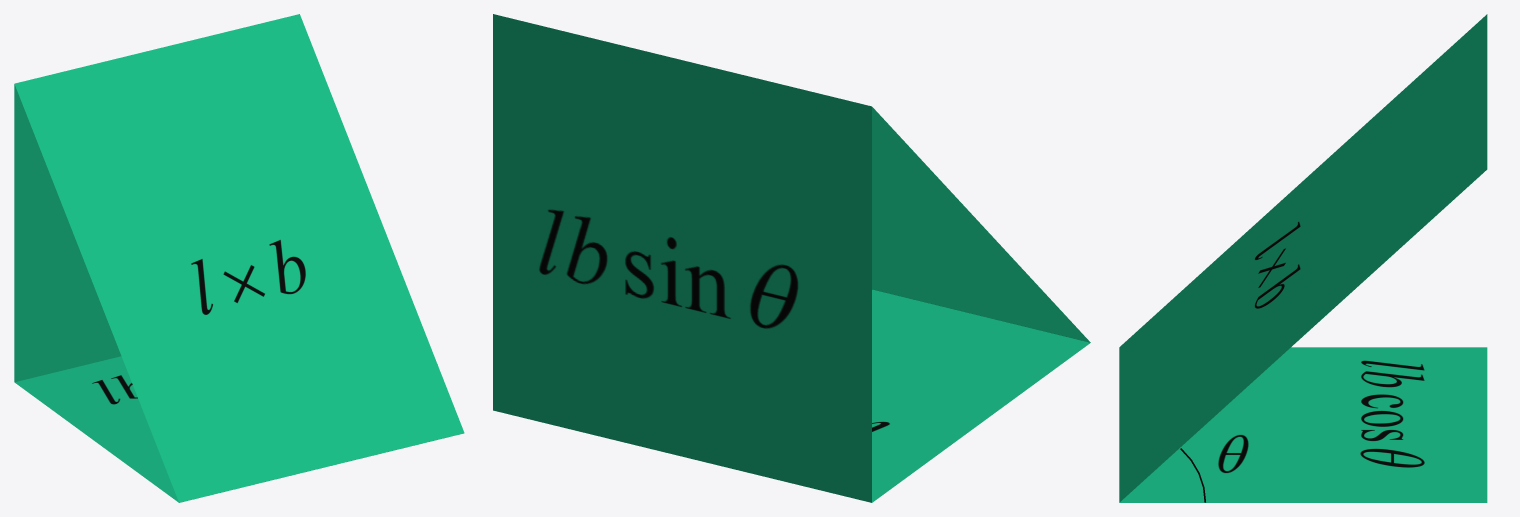
Rendered from 07_Components of inclined surface area.glb.
The picture shows the model from 3 angles, left to right: view 1: azimuth 30°, elevation 25°; view 2: azimuth 150°, elevation 25°; view 3: azimuth 270°, elevation 25°; orthographic projection. The views are drawn at different scales.
Visible parts, largest first — view 1: Cube, Shape_3_Object 5.001; view 2: Cube, Shape_1_Object 3.001; view 3: Cube, Shape_4_Object 6.001, Shape_3_Object 5.001, Shape_2_Object 4.001.
Boxes of the visible parts, x1=… form: Cube: x1=14, y1=14, x2=464, y2=502; Shape_3_Object 5.001: x1=191, y1=240, x2=305, y2=314; Cube: x1=493, y1=14, x2=1090, y2=502; Shape_1_Object 3.001: x1=539, y1=209, x2=798, y2=328; Cube: x1=1119, y1=14, x2=1487, y2=502; Shape_4_Object 6.001: x1=1360, y1=360, x2=1424, y2=467; Shape_3_Object 5.001: x1=1255, y1=222, x2=1300, y2=308; Shape_2_Object 4.001: x1=1218, y1=435, x2=1248, y2=472.
Size of the model in its own units: 2 by 2 by 2.1.
Materials: 6 (4 with a texture image).
